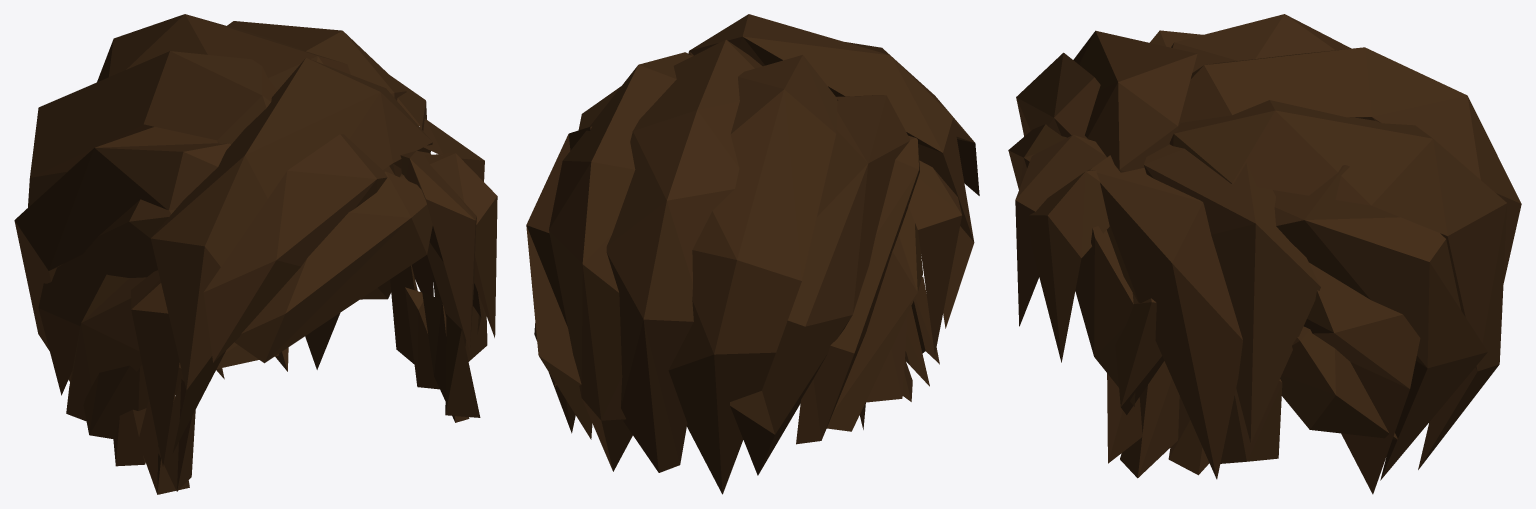
Rendered from hair-swept.mid.243b1e6d.glb.
3 renders of one model, left to right at view 1: azimuth 30°, elevation 25°; view 2: azimuth 150°, elevation 25°; view 3: azimuth 270°, elevation 25°, orthographic. The views are drawn at different scales.
Parts seen in each view (by area): view 1: hair-swept; view 2: hair-swept; view 3: hair-swept.
Boxes of the visible parts, left/top/right/bottom form: hair-swept: left=14, top=14, right=497, bottom=494; hair-swept: left=526, top=14, right=979, bottom=494; hair-swept: left=1008, top=14, right=1521, bottom=494.
Bounding box in the file's own units: 0.2143 × 0.2244 × 0.2597.
